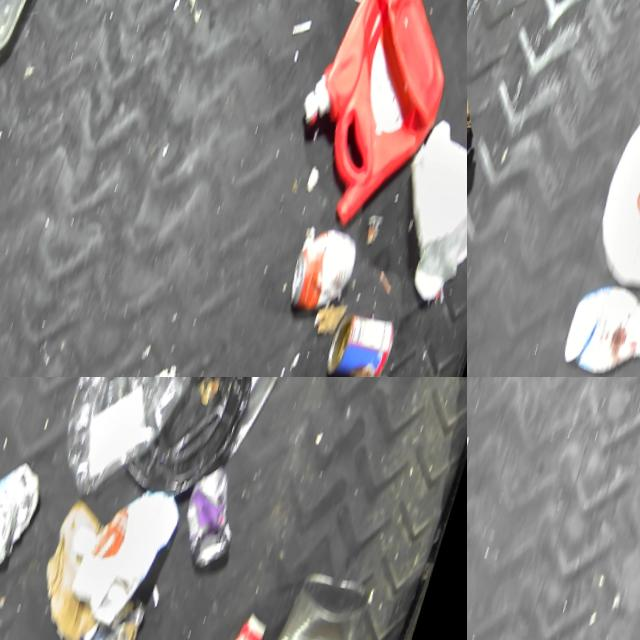can: (252, 551, 389, 640), (174, 457, 262, 576), (287, 219, 369, 317), (0, 445, 55, 576), (326, 302, 405, 377)
milk_jug: (583, 74, 640, 296)
non_white_jug: (272, 0, 467, 237)
plastic_bottle: (46, 377, 227, 515)
